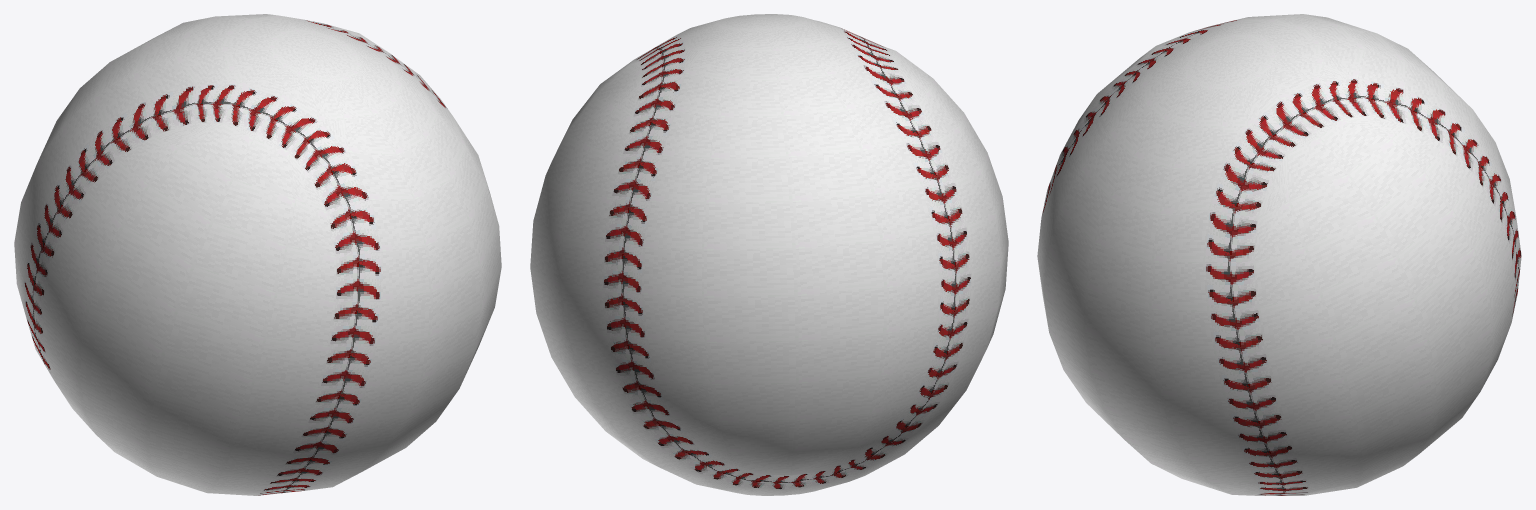
3 renders of one model, left to right at view 1: azimuth 30°, elevation 25°; view 2: azimuth 150°, elevation 25°; view 3: azimuth 270°, elevation 25°, orthographic.
Visible parts, largest first — view 1: Joint_0_Object_0, Joint_0_Object_1; view 2: Joint_0_Object_0, Joint_0_Object_1; view 3: Joint_0_Object_0, Joint_0_Object_1.
Part boxes in pixels (bbox=[...]): Joint_0_Object_0: bbox=[14, 14, 501, 495]; Joint_0_Object_1: bbox=[24, 19, 452, 495]; Joint_0_Object_0: bbox=[530, 14, 1008, 495]; Joint_0_Object_1: bbox=[603, 27, 971, 489]; Joint_0_Object_0: bbox=[1037, 14, 1516, 495]; Joint_0_Object_1: bbox=[1041, 17, 1521, 495].
Size of the model in its own units: 198 by 200 by 198.
1 material, 1 textured.
